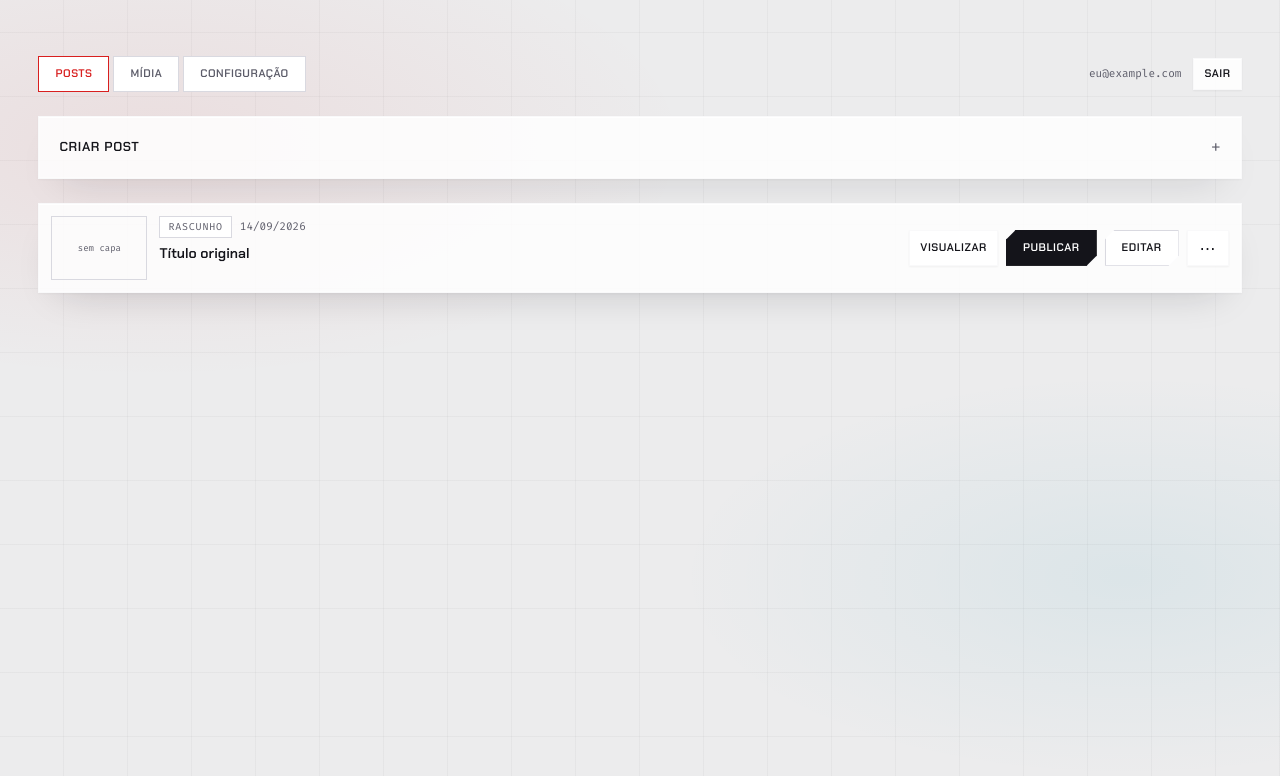
Scenario: texto ainda não salvo › publicar grava o texto ANTES de publicar
Click the button "editar": {"x": 1142, "y": 248} [1105,230,1179,266]
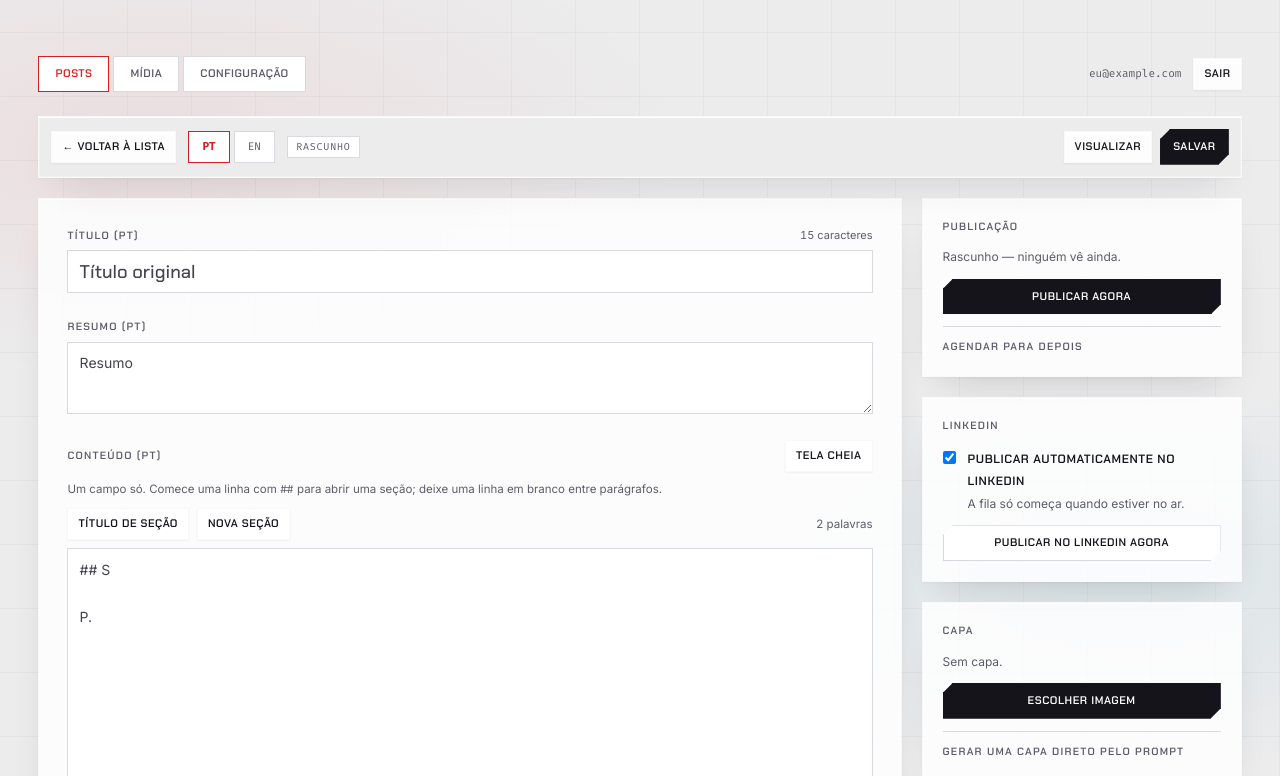
In the text box labelled "Título (pt)": {"x": 470, "y": 272} [67,250,873,293], type "!"
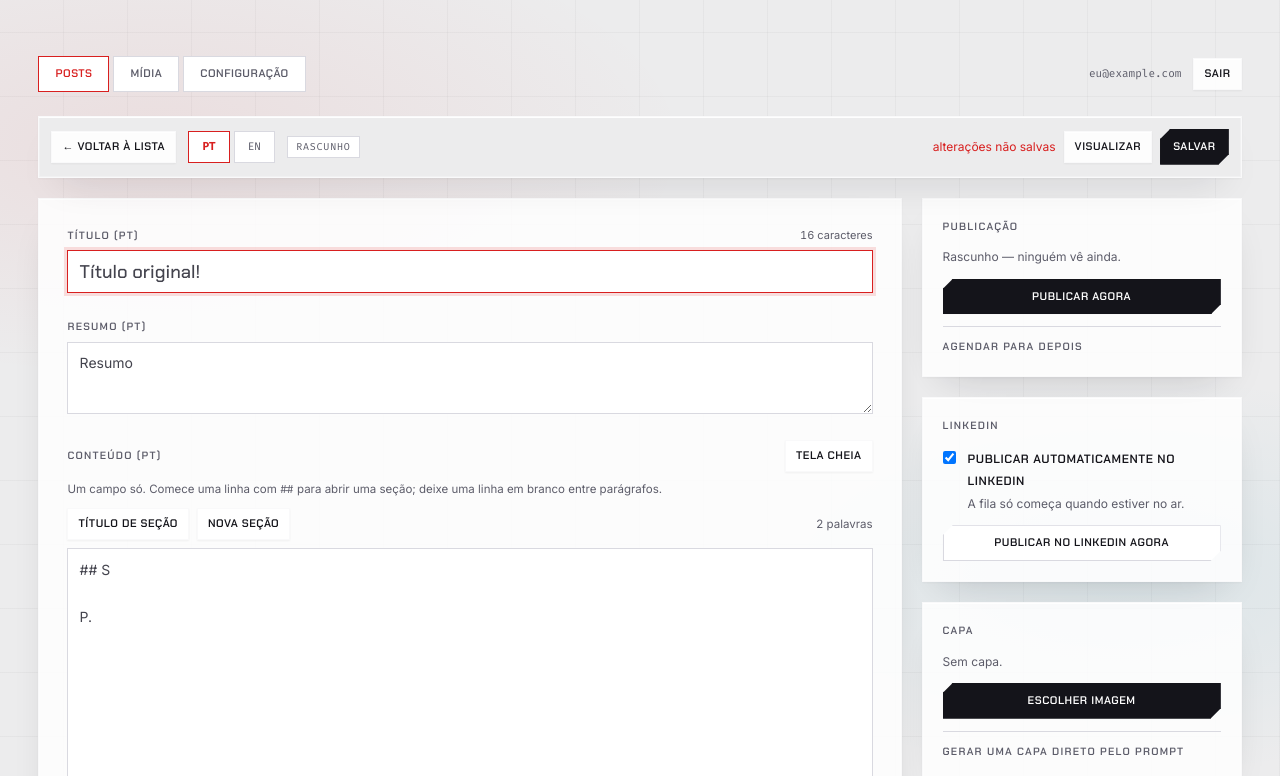
Expected: the text "alterações não salvas" is shown, [933,137,1056,156]
Click the button "publicar agora": {"x": 1082, "y": 297} [943,279,1221,314]
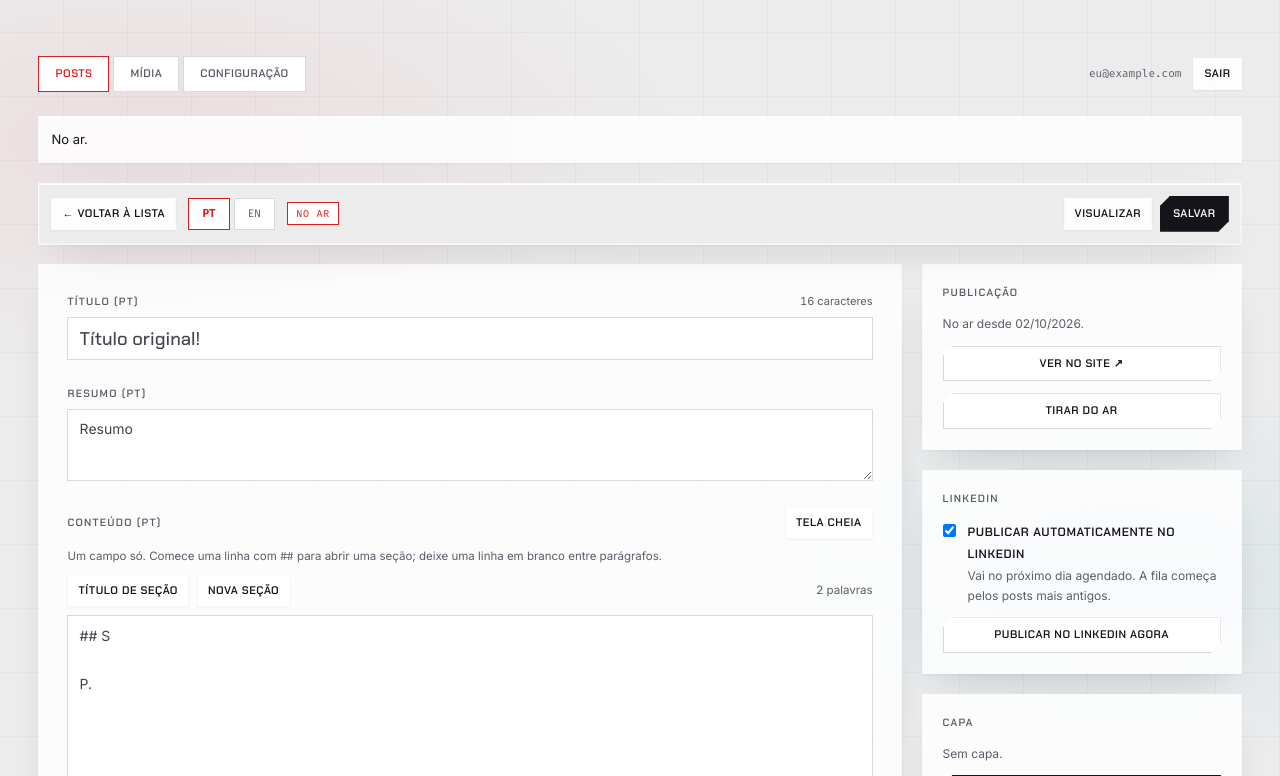
Expected: the text "alterações não salvas" is gone
